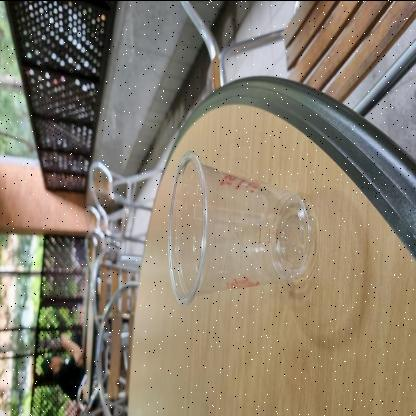Others: (166, 153, 316, 305)
